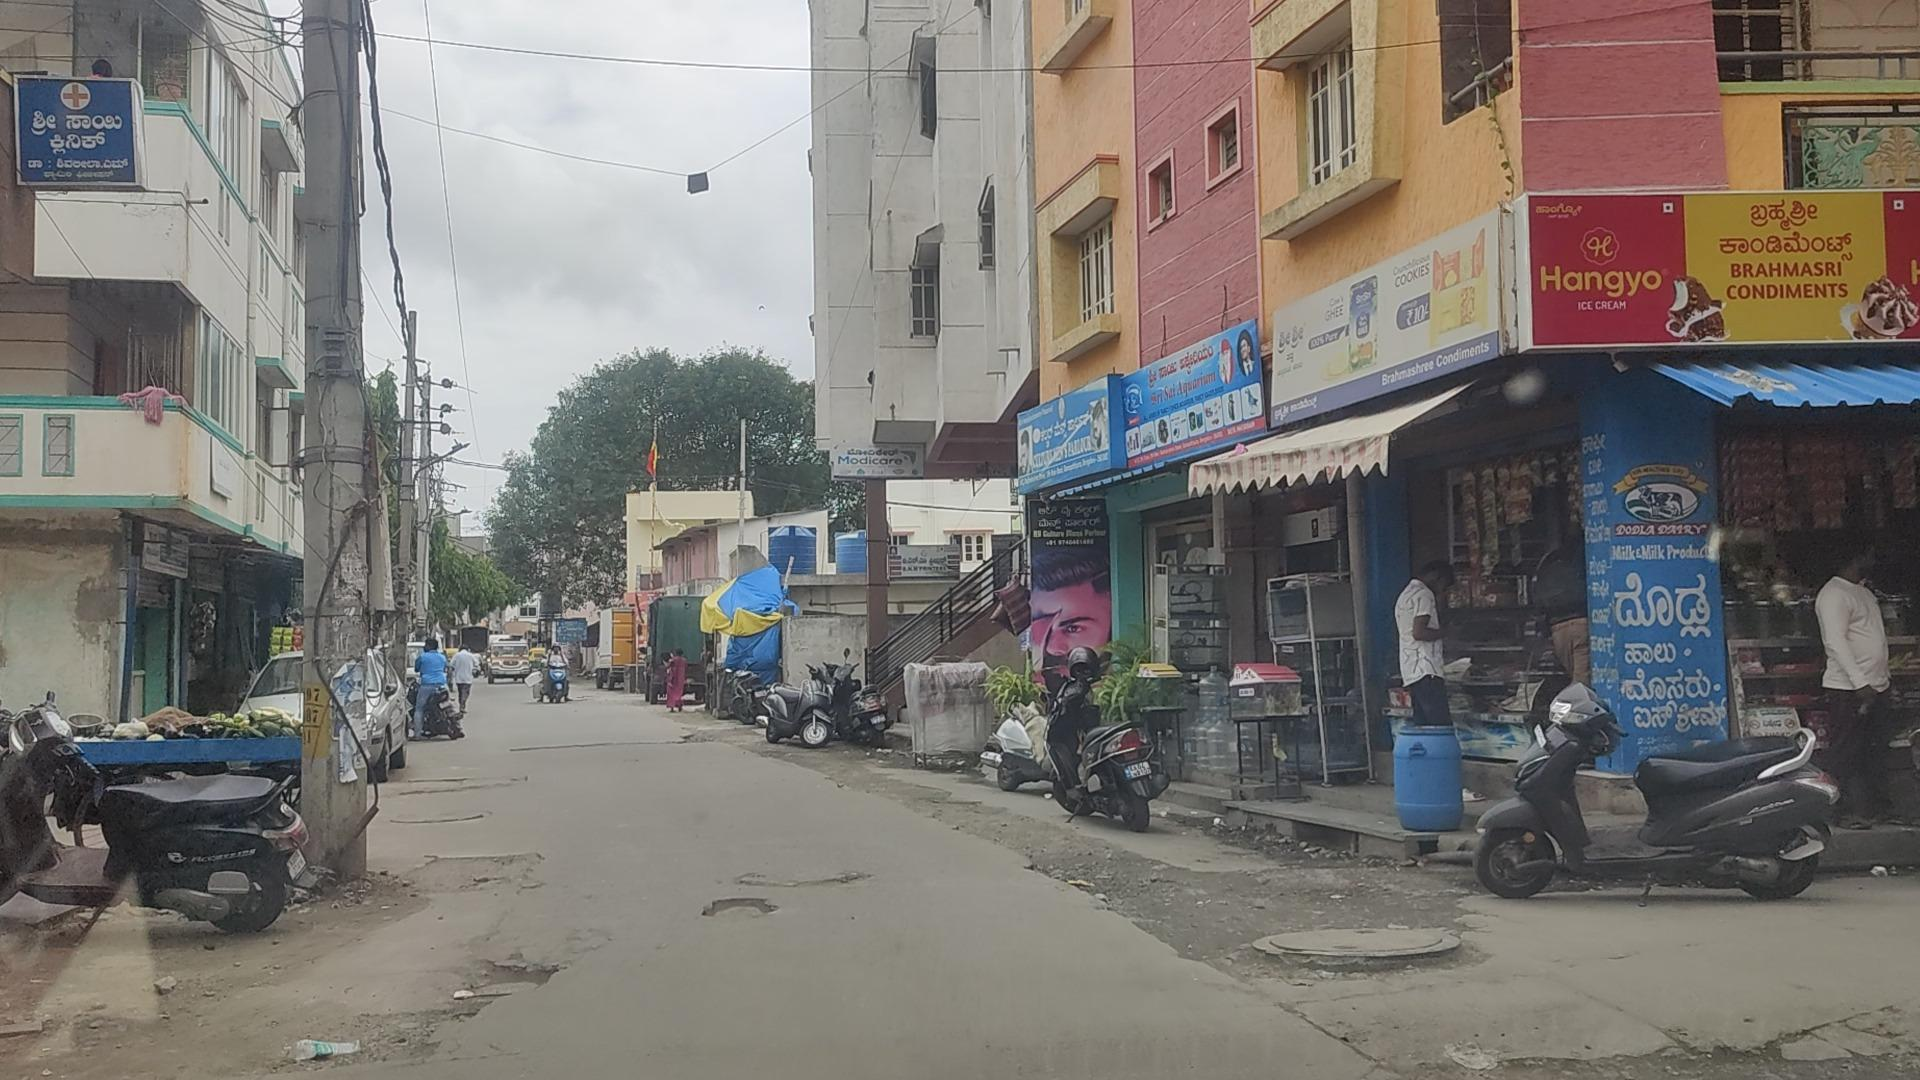RoadDamages: (1428, 989, 1909, 1080), (272, 939, 559, 1071), (1244, 906, 1490, 994), (1018, 828, 1133, 920), (409, 847, 543, 898), (686, 886, 795, 942), (905, 775, 977, 839), (397, 804, 489, 831)
